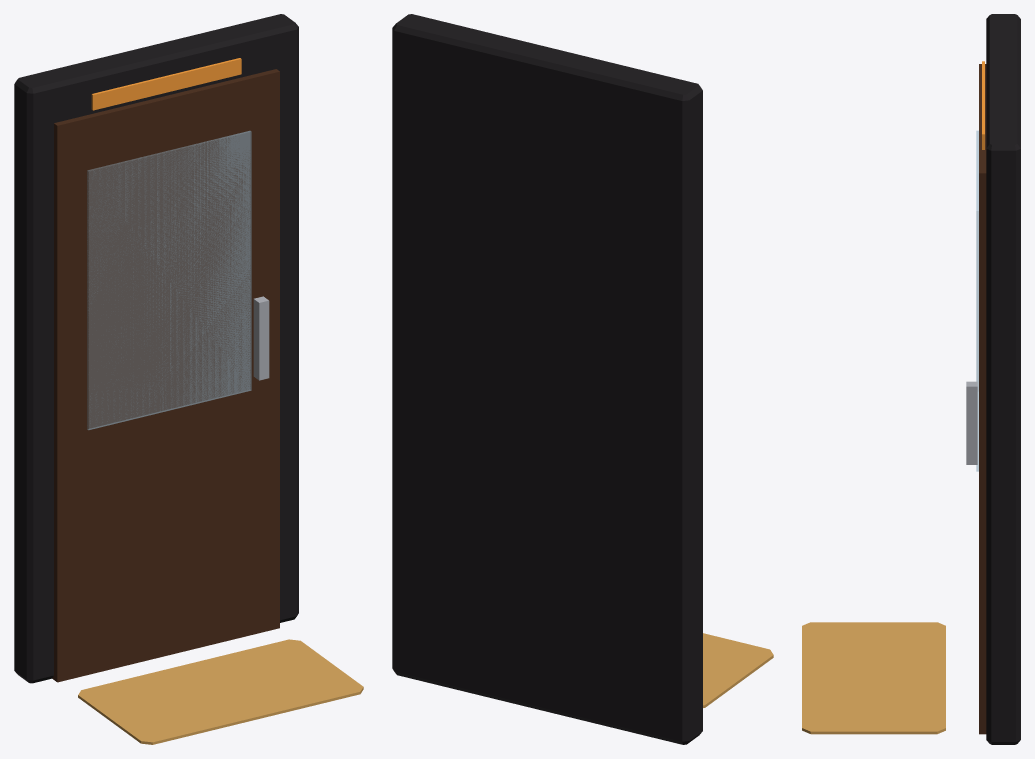
File: door.obj
The picture shows the model from 3 angles, left to right: view 1: azimuth 30°, elevation 25°; view 2: azimuth 150°, elevation 25°; view 3: azimuth 270°, elevation 25°; orthographic projection. The views are drawn at different scales.
Parts seen in each view (by area): view 1: door; view 2: door; view 3: door.
Boxes of the visible parts, x1,y1,x2,y2 form: door: (14, 14, 363, 744); door: (392, 14, 773, 744); door: (802, 14, 1020, 744).
Size of the model in its own units: 1.1 by 2.3 by 0.76.
